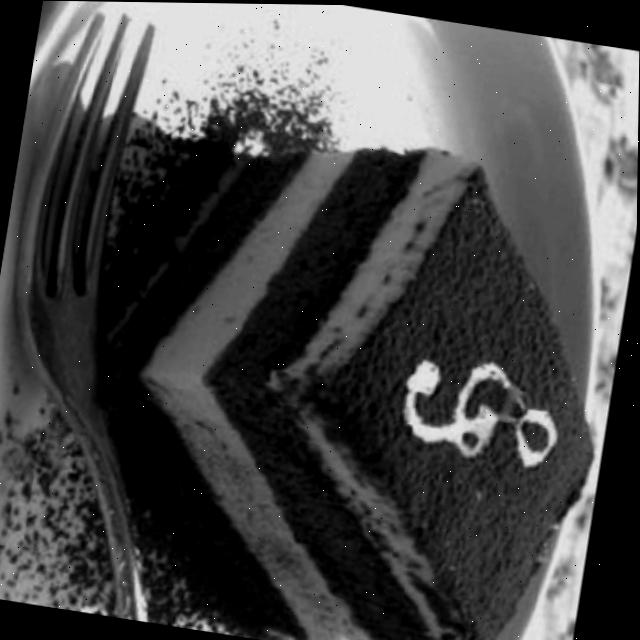蛋糕甜品: (56, 92, 639, 640)
